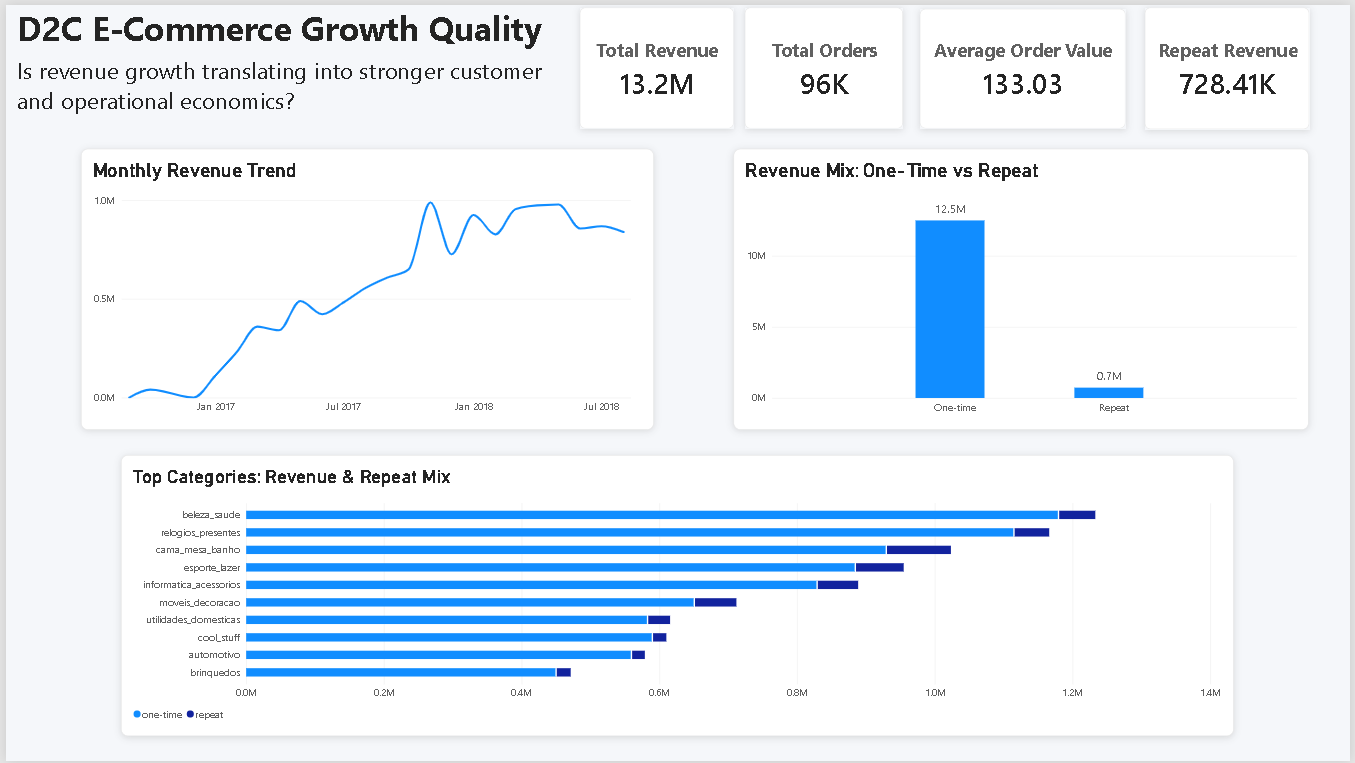

This screenshot's page, from the dashboard's own definition file:
{"tool":"powerbi","page":{"name":"Growth Quality","canvas":[1920,1080],"ordinal":0},"visuals":[{"type":"textbox","box":[16.5,0,761.6,70],"z":0},{"type":"textbox","box":[16.2,70.7,761.3,101],"z":1000},{"type":"cardVisual","fields":{"Data":["Sum(Revenue Concentration.total_revenue)","Sum(Revenue Concentration.total_revenue)"]},"box":[819.9,4,220.1,173.7],"z":2000},{"type":"cardVisual","fields":{"Data":["Sum(Time Trend.total_orders)"]},"box":[1056.1,4,226.2,173.7],"z":3000},{"type":"cardVisual","fields":{"Data":["Avg(Time Trend.average_order_value)"]},"box":[1304.5,6.1,294.8,171.6],"z":4000},{"type":"cardVisual","fields":{"Data":["Sum(01_customer_segmentation_output.total_revenue)"]},"box":[1626.8,3.6,235.7,175],"z":5000},{"type":"lineChart","title":"Monthly Revenue Trend","fields":{"Category":["Time Trend.order_month"],"Y":["Sum(Time Trend.total_revenue)"]},"box":[107,206,818.1,401.3],"z":6000},{"type":"clusteredColumnChart","title":"Revenue Mix: One-Time vs Repeat","fields":{"Category":["Customer Segmentation.customer_type"],"Y":["Sum(Customer Segmentation.total_revenue)"]},"box":[1040,206,821.9,401.9],"z":7000},{"type":"barChart","title":"Top Categories: Revenue & Repeat Mix","fields":{"Category":["Category Analysis.product_category_name"],"Series":["Category Analysis.customer_type"],"Y":["Sum(Category Analysis.total_revenue)"]},"box":[163.6,642.2,1589.2,401.9],"z":8000}]}

Visuals, with their boxes in screenshot pixels (x1, y1, x2, y2), scaled from the page's 1920x1080 canvas onto the 1355x763 screenshot:
textbox: 12 0 549 49
textbox: 11 50 549 121
cardVisual - Sum(Revenue Concentration.total_revenue) x Sum(Revenue Concentration.total_revenue): 579 3 734 126
cardVisual - Sum(Time Trend.total_orders): 745 3 905 126
cardVisual - Avg(Time Trend.average_order_value): 921 4 1129 126
cardVisual - Sum(01_customer_segmentation_output.total_revenue): 1148 3 1314 126
"Monthly Revenue Trend" lineChart: 76 146 653 429
"Revenue Mix: One-Time vs Repeat" clusteredColumnChart: 734 146 1314 429
"Top Categories: Revenue & Repeat Mix" barChart: 115 454 1237 738
